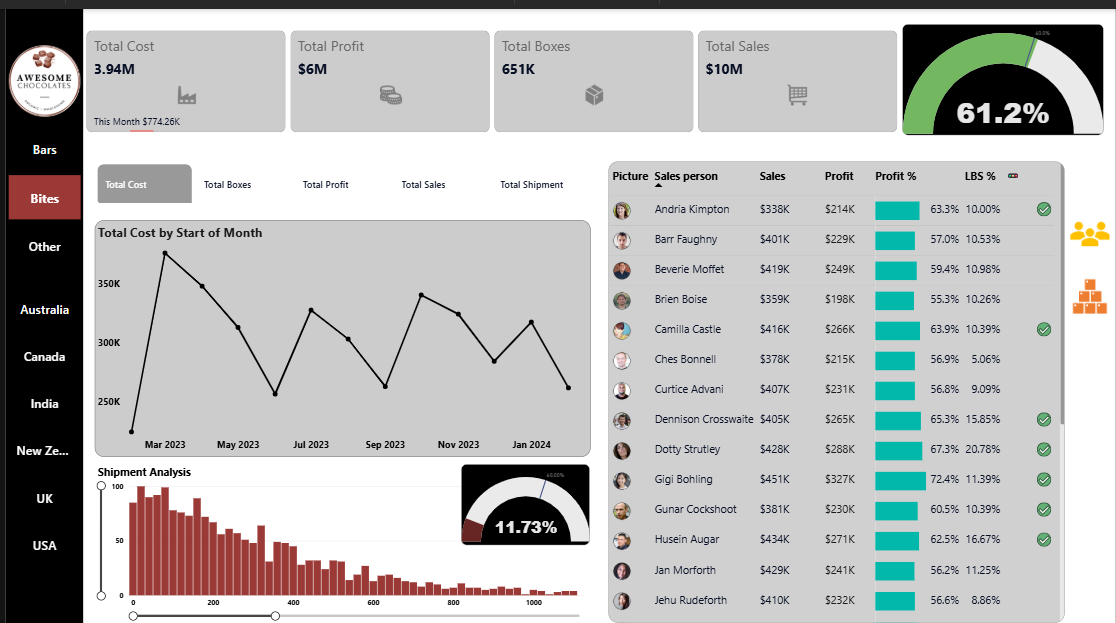

The page's visual inventory and layout, read from the dashboard file:
{"tool":"powerbi","page":{"name":"Page 3","canvas":[1920,1080],"ordinal":2},"visuals":[{"type":"cardVisual","fields":{"Data":["_Measures.Total Cost","_Measures.Total Profit","_Measures.Total Boxes","_Measures.Total Sales"]},"box":[134.2,32.5,1417.5,186.1],"z":1000},{"type":"gauge","fields":{"Y":["_Measures.Profit %"]},"box":[1551.7,26,348.4,192.6],"z":2000},{"type":"lineChart","fields":{"Y":["_Measures.Total Cost"],"Category":["calendar.Start of Month"]},"box":[152.8,366,858.5,409.4],"z":3000},{"type":"advancedSlicerVisual","fields":{"Values":["Measure Selector.Measure Selector"]},"box":[152.8,264.2,858.5,77.4],"z":4000},{"type":"shape","box":[0,0,134,1064.2],"z":4500},{"type":"clusteredColumnChart","title":"Shipment Analysis","fields":{"Category":["shipments.Boxes (bins)"],"Y":["_Measures.Total Shipment"]},"box":[152.8,788.7,858.5,273.6],"z":5000},{"type":"gauge","fields":{"Y":["_Measures.LBS %"]},"box":[787.7,787.7,222.9,140.7],"z":6000},{"type":"tableEx","title":"people details","fields":{"Values":["people.Picture","people.Sales person","_Measures.Total Sales","_Measures.Total Profit","_Measures.Profit %","_Measures.LBS %","_Measures.Profit Target indicator"]},"box":[1043.1,264,789.9,798.6],"z":7000},{"type":"image","title":"person","box":[1832.4,341.5,87.7,95.2],"z":9000},{"type":"image","title":"product","box":[1832.4,455.3,87.7,85.8],"z":10000},{"type":"image","title":"logo","box":[0,49.8,134.2,149.3],"z":11000},{"type":"advancedSlicerVisual","fields":{"Values":["products.Category"]},"box":[0,199.1,134.2,255.4],"z":12000},{"type":"advancedSlicerVisual","fields":{"Values":["locations.Geo"]},"box":[0,476.1,134.2,497.8],"z":12001}]}

Visuals, with their boxes on the page's 1920x1080 design canvas (x1, y1, x2, y2). These are canvas units, not pixel positions in the 1116x623 screenshot, which may show the page scaled, cropped or inside an application window:
cardVisual - _Measures.Total Cost x _Measures.Total Profit: bbox(134, 32, 1552, 219)
gauge - _Measures.Profit %: bbox(1552, 26, 1900, 219)
lineChart - _Measures.Total Cost x calendar.Start of Month: bbox(153, 366, 1011, 775)
advancedSlicerVisual - Measure Selector.Measure Selector: bbox(153, 264, 1011, 342)
shape: bbox(0, 0, 134, 1064)
"Shipment Analysis" clusteredColumnChart: bbox(153, 789, 1011, 1062)
gauge - _Measures.LBS %: bbox(788, 788, 1011, 928)
"people details" tableEx: bbox(1043, 264, 1833, 1063)
"person" image: bbox(1832, 342, 1920, 437)
"product" image: bbox(1832, 455, 1920, 541)
"logo" image: bbox(0, 50, 134, 199)
advancedSlicerVisual - products.Category: bbox(0, 199, 134, 454)
advancedSlicerVisual - locations.Geo: bbox(0, 476, 134, 974)
